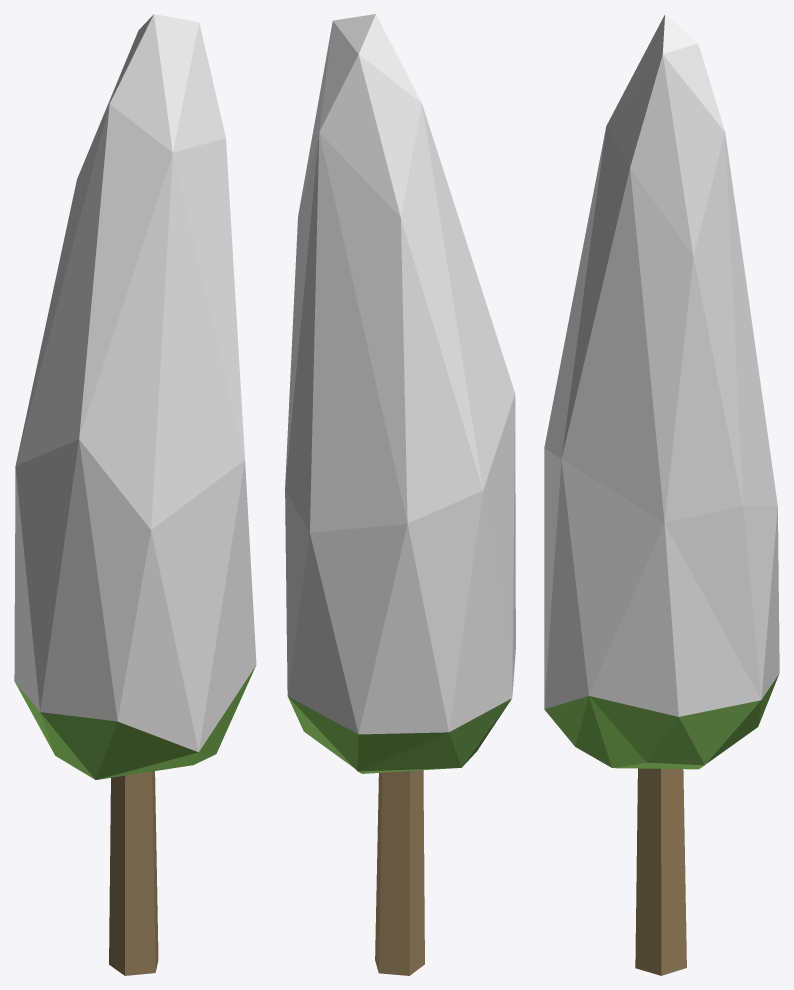
File: Thuja_Tree_m_Snow_07_LOD.fbx
3 renders of one model, left to right at view 1: azimuth 30°, elevation 25°; view 2: azimuth 150°, elevation 25°; view 3: azimuth 270°, elevation 25°, orthographic.
Parts seen in each view (by area): view 1: Thuja_Tree_m_Snow_07_LOD0; view 2: Thuja_Tree_m_Snow_07_LOD0; view 3: Thuja_Tree_m_Snow_07_LOD0.
Part boxes in pixels (left/top/right/bottom): Thuja_Tree_m_Snow_07_LOD0: left=14, top=14, right=256, bottom=975; Thuja_Tree_m_Snow_07_LOD0: left=285, top=14, right=515, bottom=975; Thuja_Tree_m_Snow_07_LOD0: left=544, top=14, right=779, bottom=975.
Size of what is drawn, in the model's own units: 99.42 by 435 by 96.61.
